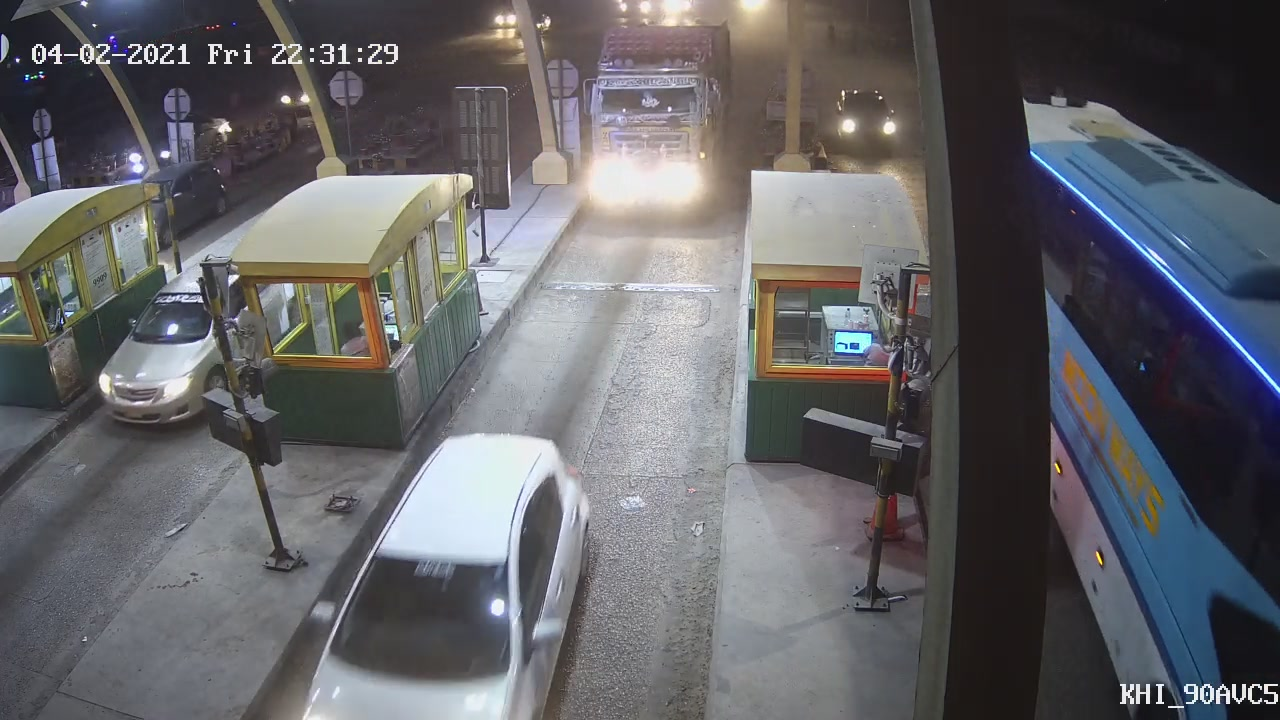F5: (577, 1, 730, 227)
